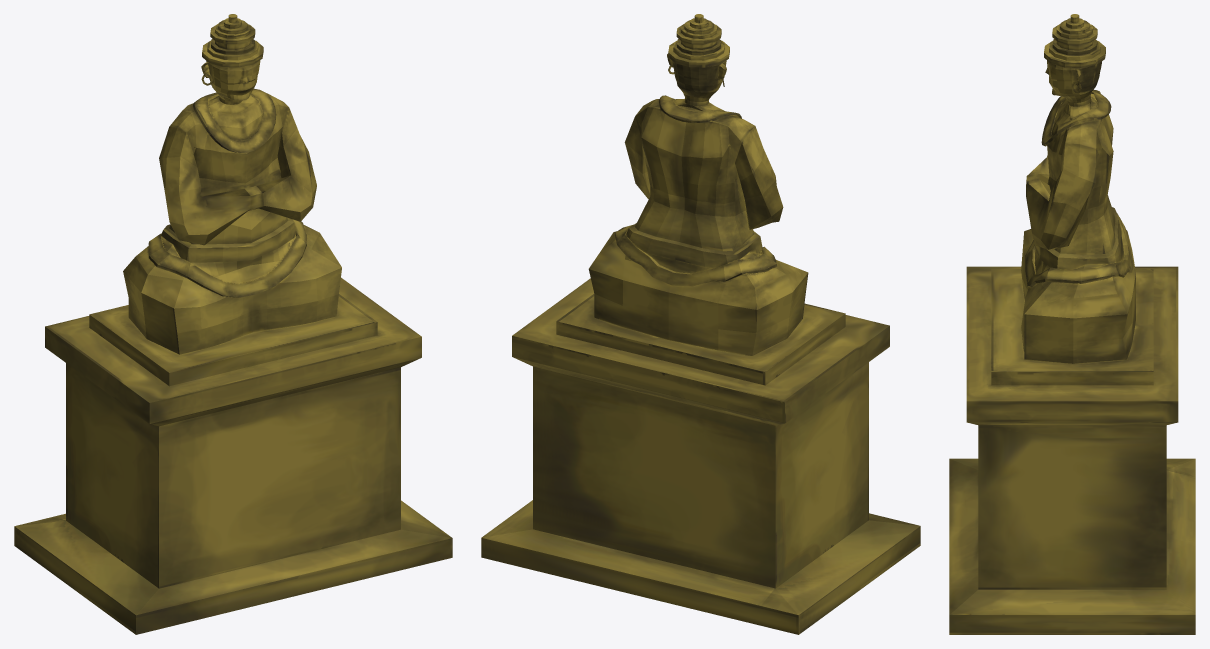
File: f_statue_1.fbx
The picture shows the model from 3 angles, left to right: view 1: azimuth 30°, elevation 25°; view 2: azimuth 150°, elevation 25°; view 3: azimuth 270°, elevation 25°; orthographic projection.
Visible parts, largest first — view 1: f_statue_1; view 2: f_statue_1; view 3: f_statue_1.
Boxes of the visible parts, x1,y1,x2,y2 form: f_statue_1: (14,14,452,634); f_statue_1: (481,14,920,634); f_statue_1: (949,14,1195,634).
Size of the model in its own units: 517 by 835 by 344.
Materials: 1 (1 with a texture image).
